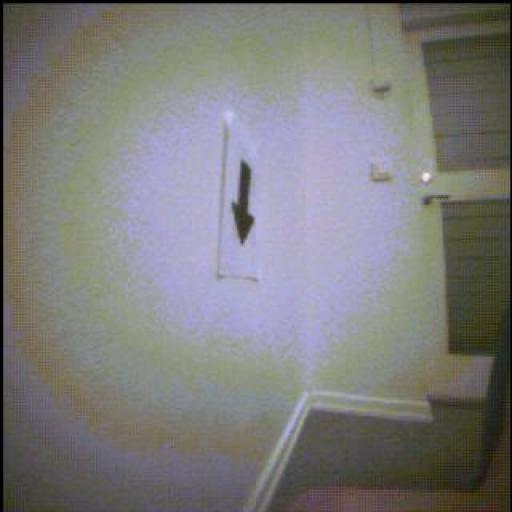arrow: (233, 161, 255, 246)
